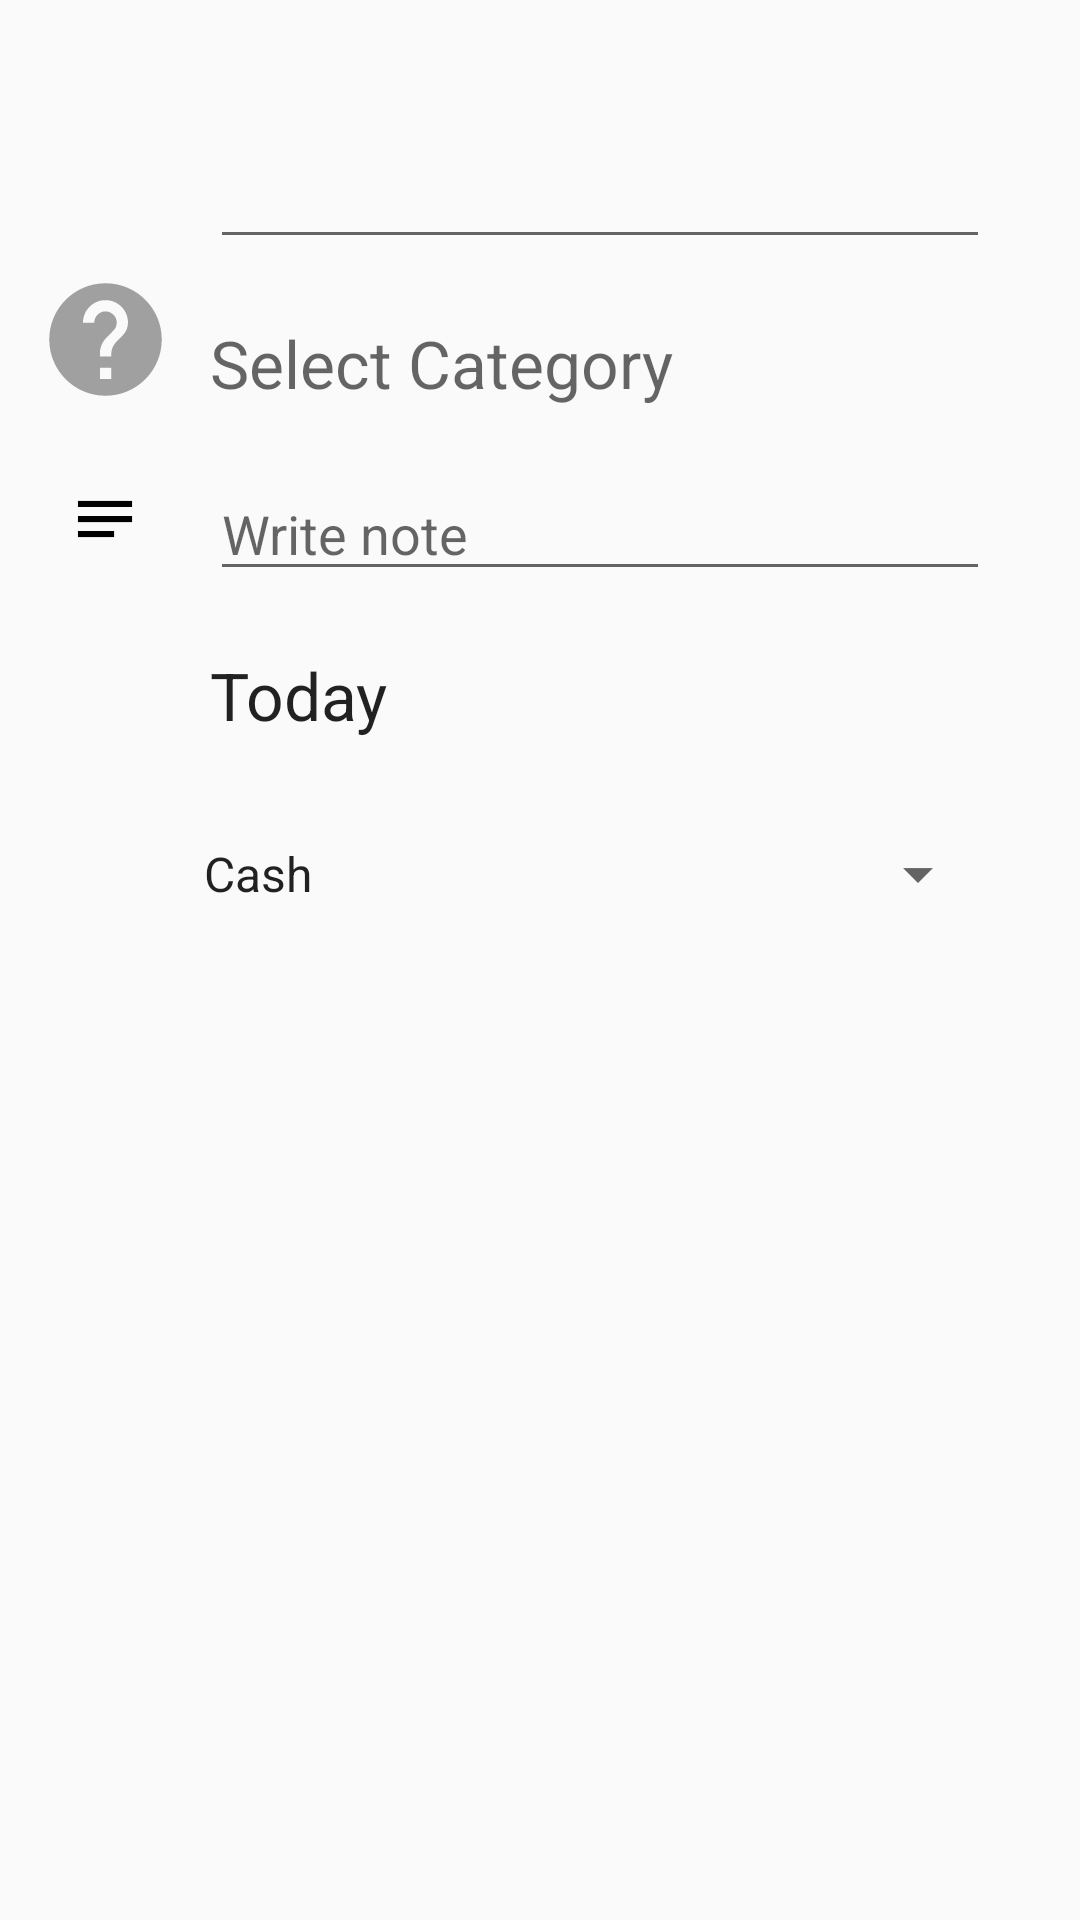

Locate icon controls on the screen. Image size 1080px×1920px, boxes as bbox=[x1, y1, x2, y2].
notes: bbox=[78, 501, 132, 537]
